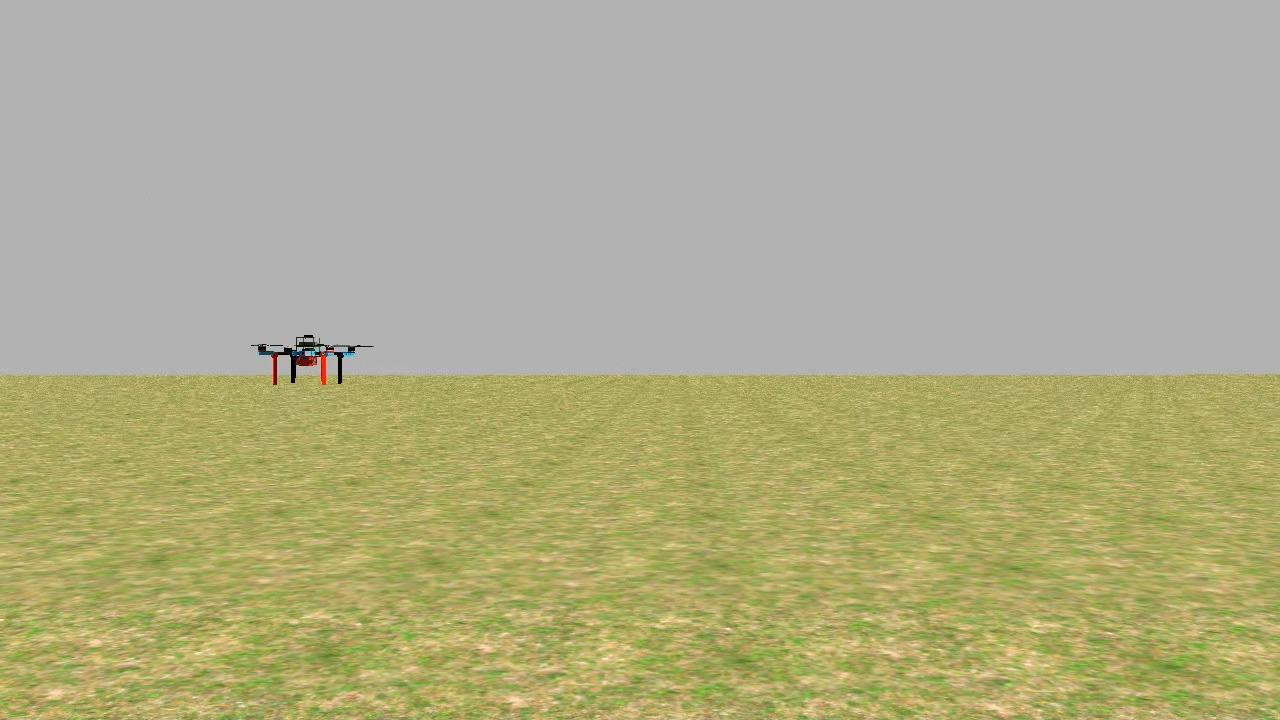UAV: (256, 330, 361, 391)
